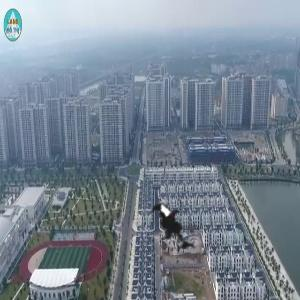drone: (133, 179, 225, 271)
